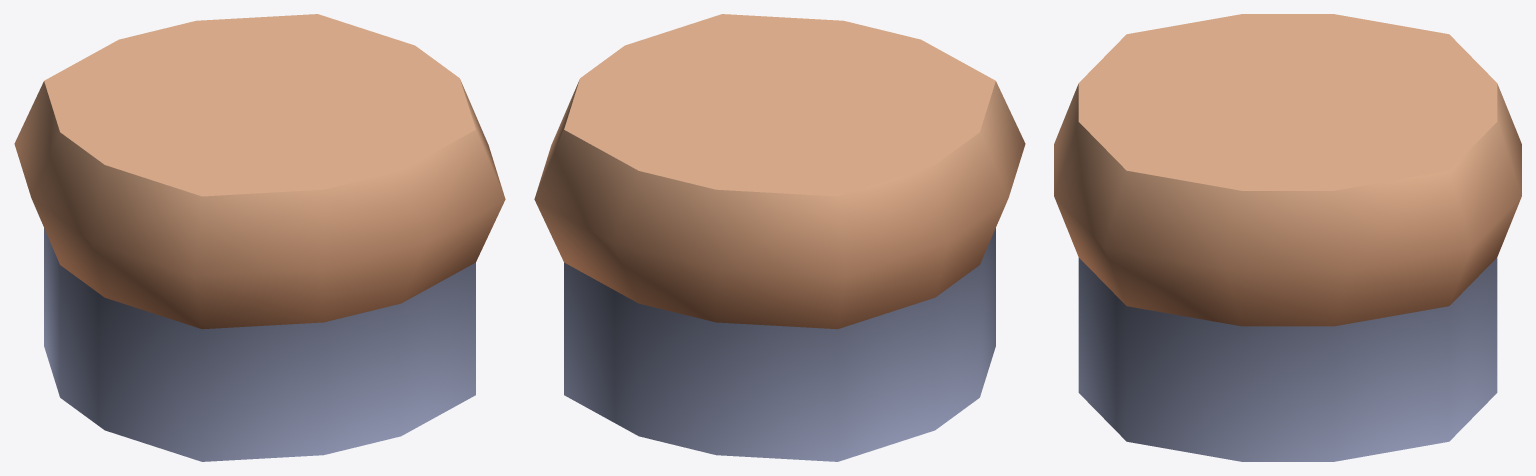
The model's file is block-grass-low-narrow.glb.
The picture shows the model from 3 angles, left to right: view 1: azimuth 30°, elevation 25°; view 2: azimuth 150°, elevation 25°; view 3: azimuth 270°, elevation 25°; orthographic projection. The views are drawn at different scales.
Visible parts, largest first — view 1: block-grass-low-narrow; view 2: block-grass-low-narrow; view 3: block-grass-low-narrow.
Boxes of the visible parts, x1,y1,x2,y2 form: block-grass-low-narrow: (14,14,505,461); block-grass-low-narrow: (534,14,1025,461); block-grass-low-narrow: (1054,14,1521,461).
Size of the model in its own units: 0.7821 by 0.5 by 0.7821.
